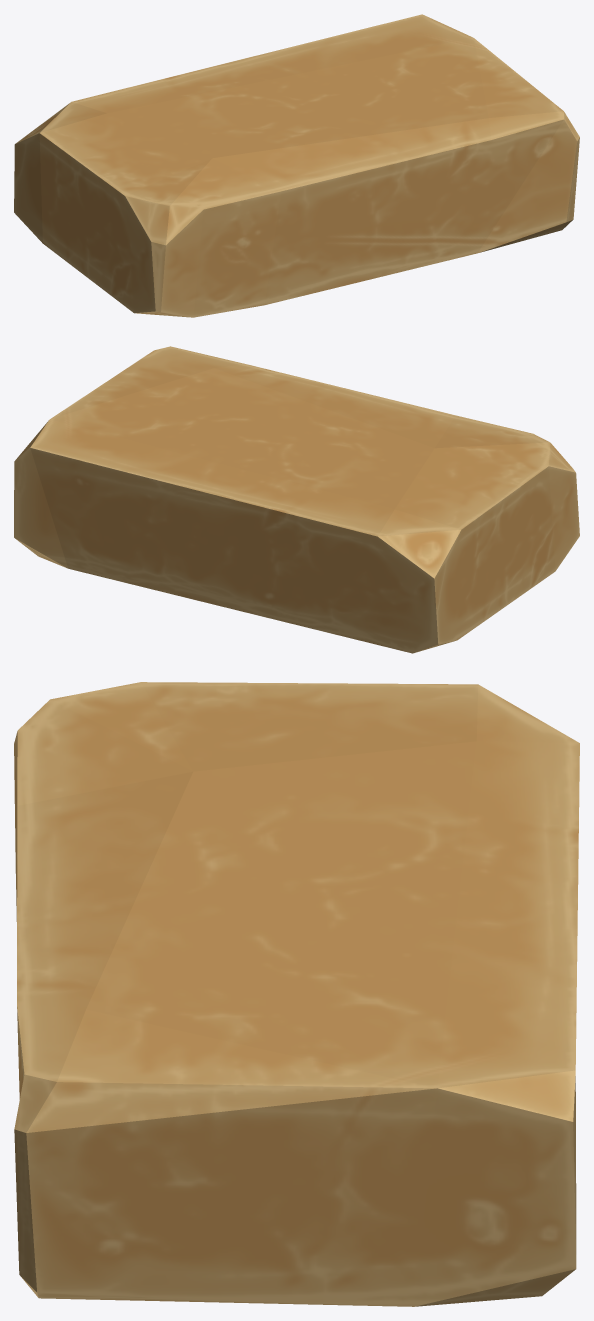
The model's file is Brick.fbx.
The picture shows the model from 3 angles, top to bottom: view 1: azimuth 30°, elevation 25°; view 2: azimuth 150°, elevation 25°; view 3: azimuth 270°, elevation 25°; orthographic projection. The views are drawn at different scales.
Parts seen in each view (by area): view 1: Brick_LP; view 2: Brick_LP; view 3: Brick_LP.
Part boxes in pixels (<box>): Brick_LP: <box>14,14,579,317</box>; Brick_LP: <box>14,346,579,653</box>; Brick_LP: <box>14,682,579,1306</box>.
Size of the model in its own units: 199 by 118 by 53.25.
